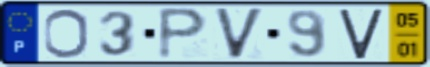3: (97, 9, 139, 58)
9: (285, 8, 328, 60)
O: (42, 7, 91, 60)
P: (156, 5, 210, 62)
V: (211, 6, 267, 62), (337, 7, 386, 62)
